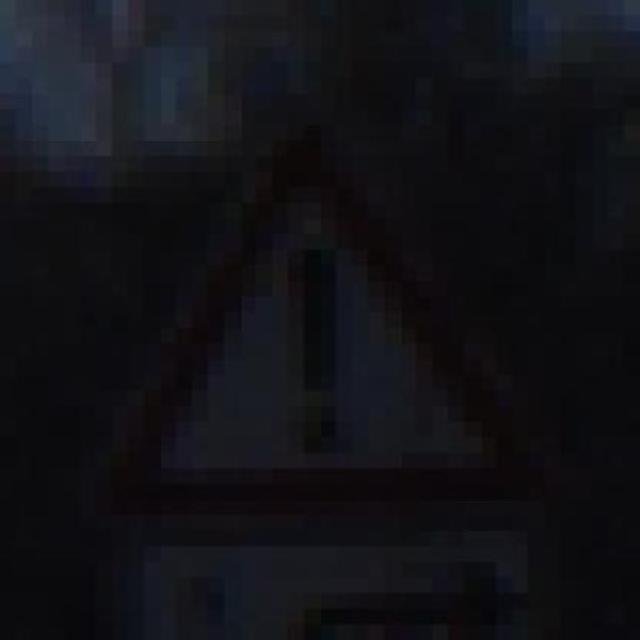Attention Please-: (64, 124, 528, 530)
